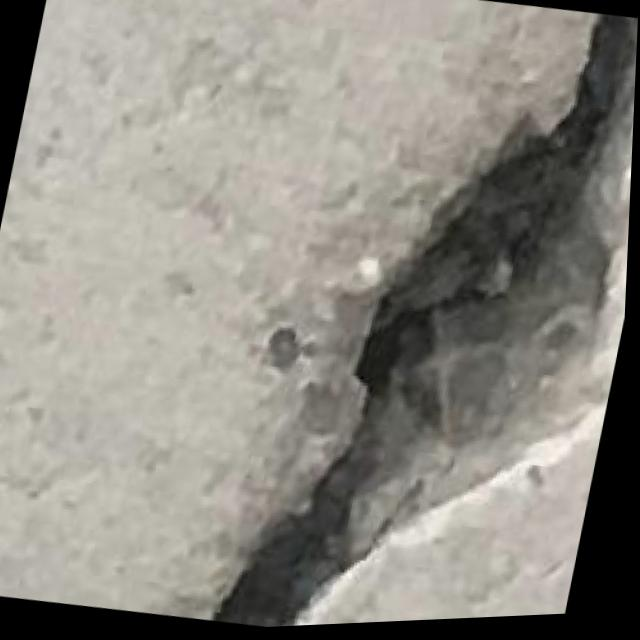Crack: (202, 0, 640, 632)
